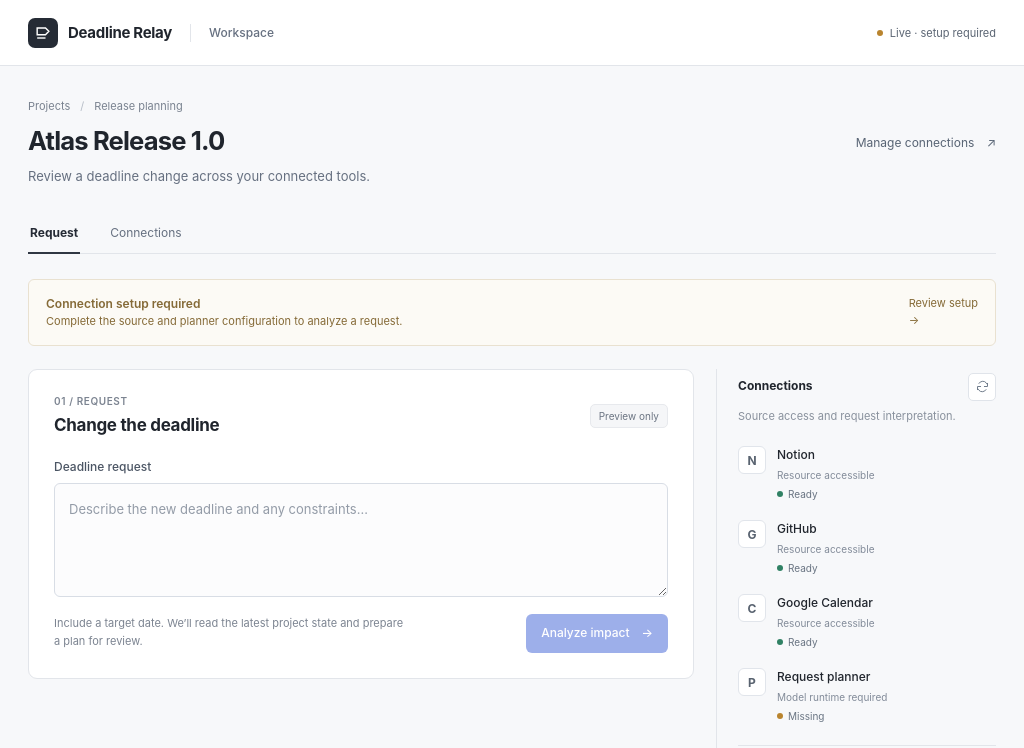
Test case: Deadline Relay workflow › shows missing planner configuration and enables planning after a real health refresh
The width and height of the screenshot is (1024, 748).
Expected: the text "Live · setup required" is shown, [877, 26, 996, 40]
Expected: the text "Model runtime required" is shown, [777, 691, 887, 703]
Type "Move Atlas Release 1.0 to September 24, 2026." into the text box labelled "Deadline request" at (361, 540), box [54, 482, 668, 596]
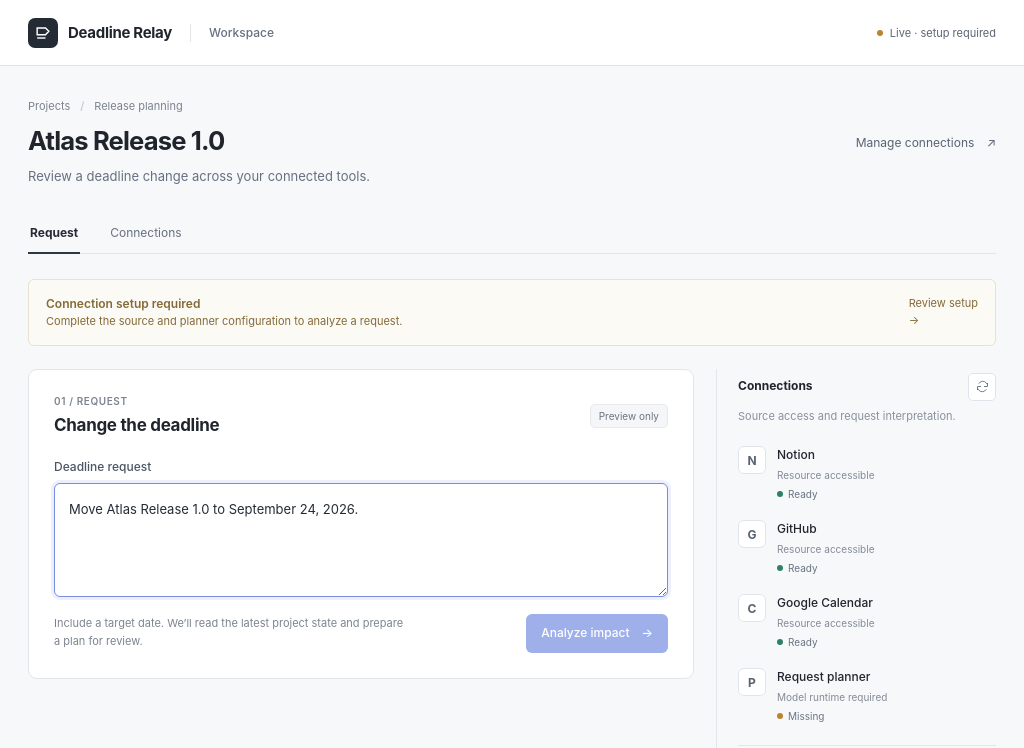
Expected: the button "Analyze impact →" is disabled, [526, 614, 668, 652]
Click the button named "Refresh connections" at (982, 387), box [968, 373, 996, 401]
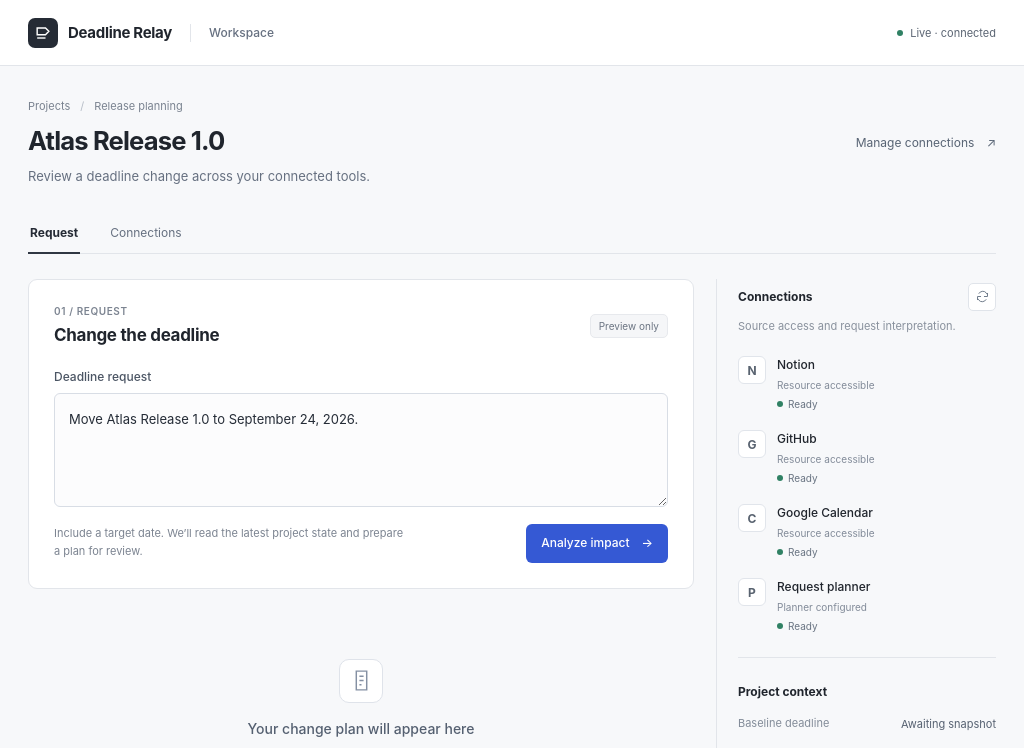
Expected: the text "Live · connected" is shown, [897, 26, 996, 40]
Expected: the button "Analyze impact →" is enabled, [526, 524, 668, 563]
